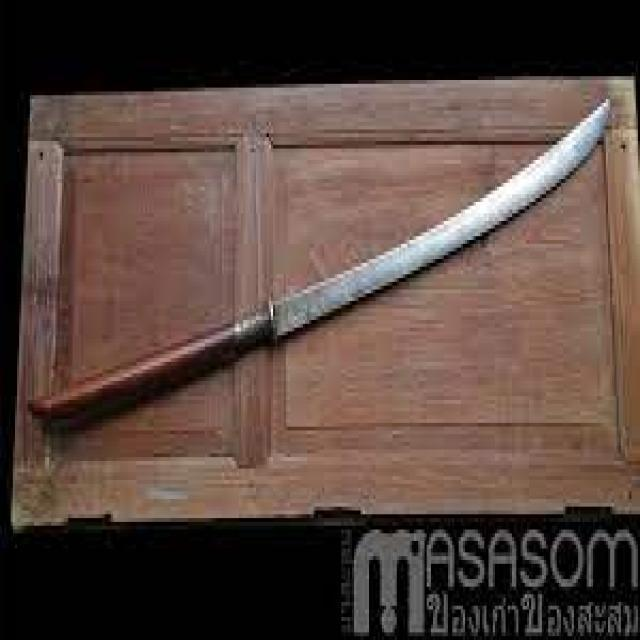long sword: (37, 100, 606, 432)
